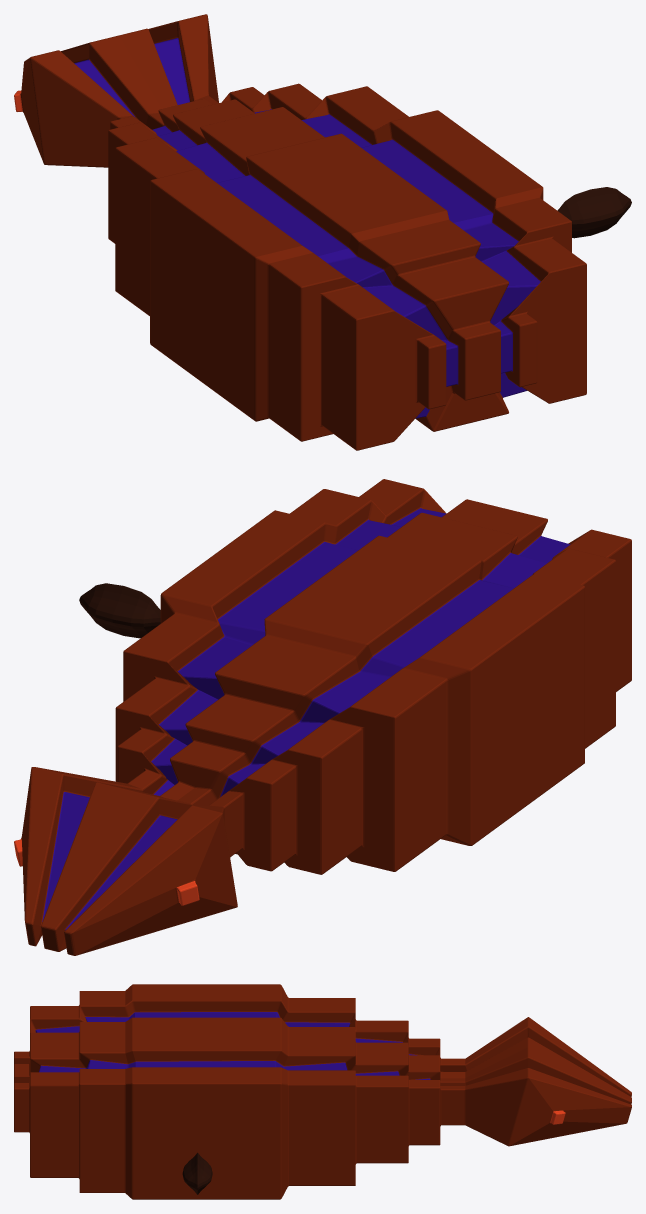
Rendered from Bugs.fbx.
The picture shows the model from 3 angles, top to bottom: view 1: azimuth 30°, elevation 25°; view 2: azimuth 150°, elevation 25°; view 3: azimuth 270°, elevation 25°; orthographic projection. The views are drawn at different scales.
Parts seen in each view (by area): view 1: BugModel, R_Leg_Back; view 2: BugModel, R_Leg_Back; view 3: BugModel, R_Leg_Back.
Boxes of the visible parts, bbox=[...] form: BugModel: bbox=[14, 14, 586, 450]; R_Leg_Back: bbox=[557, 187, 631, 238]; BugModel: bbox=[14, 479, 631, 955]; R_Leg_Back: bbox=[79, 583, 160, 638]; BugModel: bbox=[14, 984, 631, 1199]; R_Leg_Back: bbox=[182, 1152, 212, 1194].
Size of the model in its own units: 131 by 48.73 by 235.
